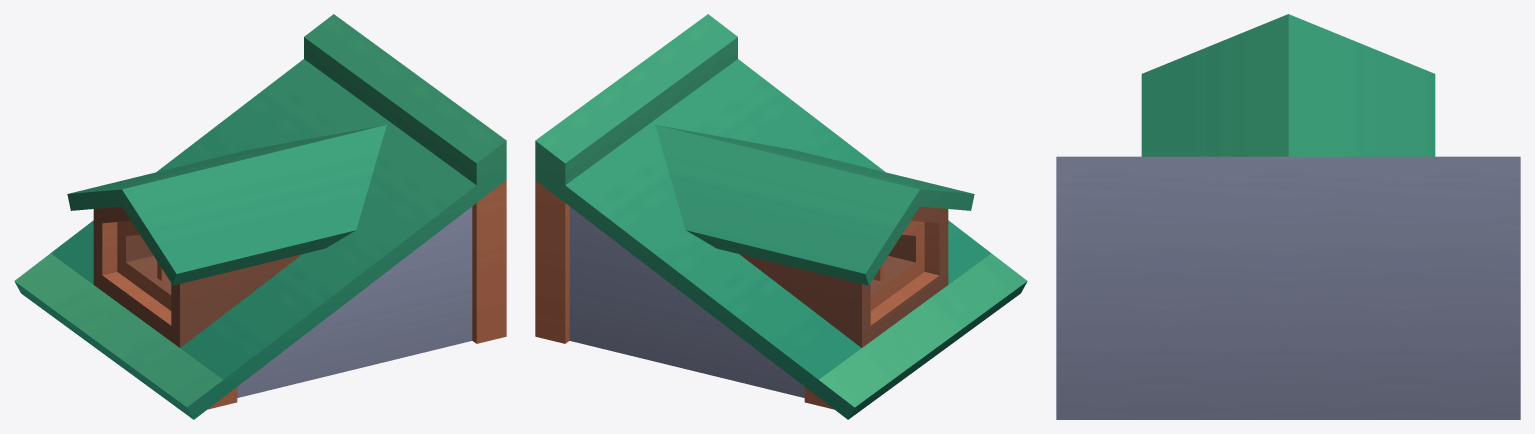
The model's file is roofWindow.fbx.
3 views of the same model, side by side, from view 1: azimuth 30°, elevation 25°; view 2: azimuth 150°, elevation 25°; view 3: azimuth 270°, elevation 25° (orthographic). The views are drawn at different scales.
Parts seen in each view (by area): view 1: roofWindow; view 2: roofWindow; view 3: roofWindow.
Part boxes in pixels (x1,y1,x2,y2): roofWindow: (14,14,506,419); roofWindow: (535,14,1027,419); roofWindow: (1056,14,1520,419).
Bounding box in the file's own units: 1.07 × 1 × 0.6483.
